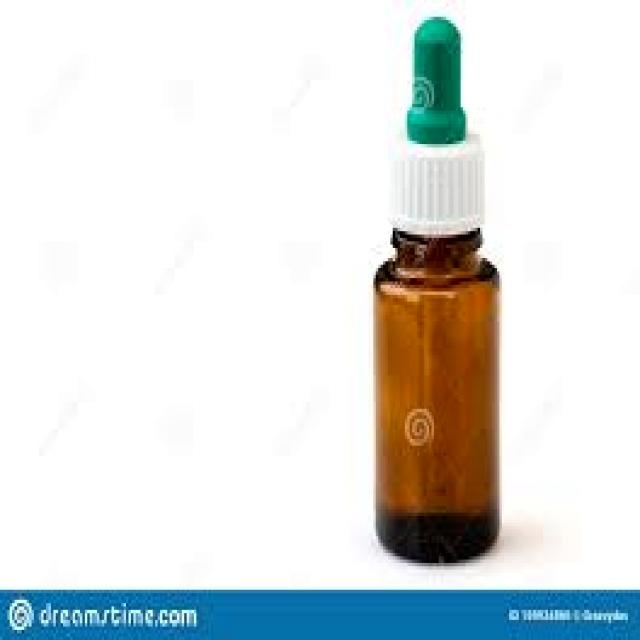Glass: (370, 219, 504, 568)
Plastic: (386, 126, 493, 240)
